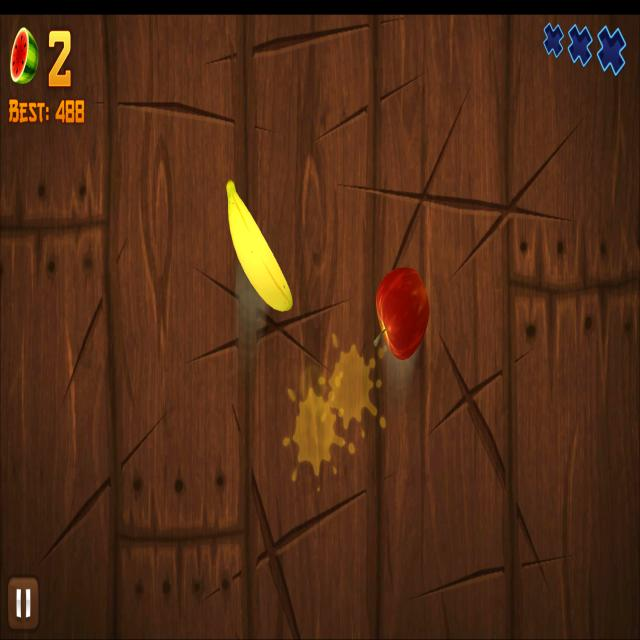fruit: (226, 180, 294, 312), (376, 268, 429, 359)
